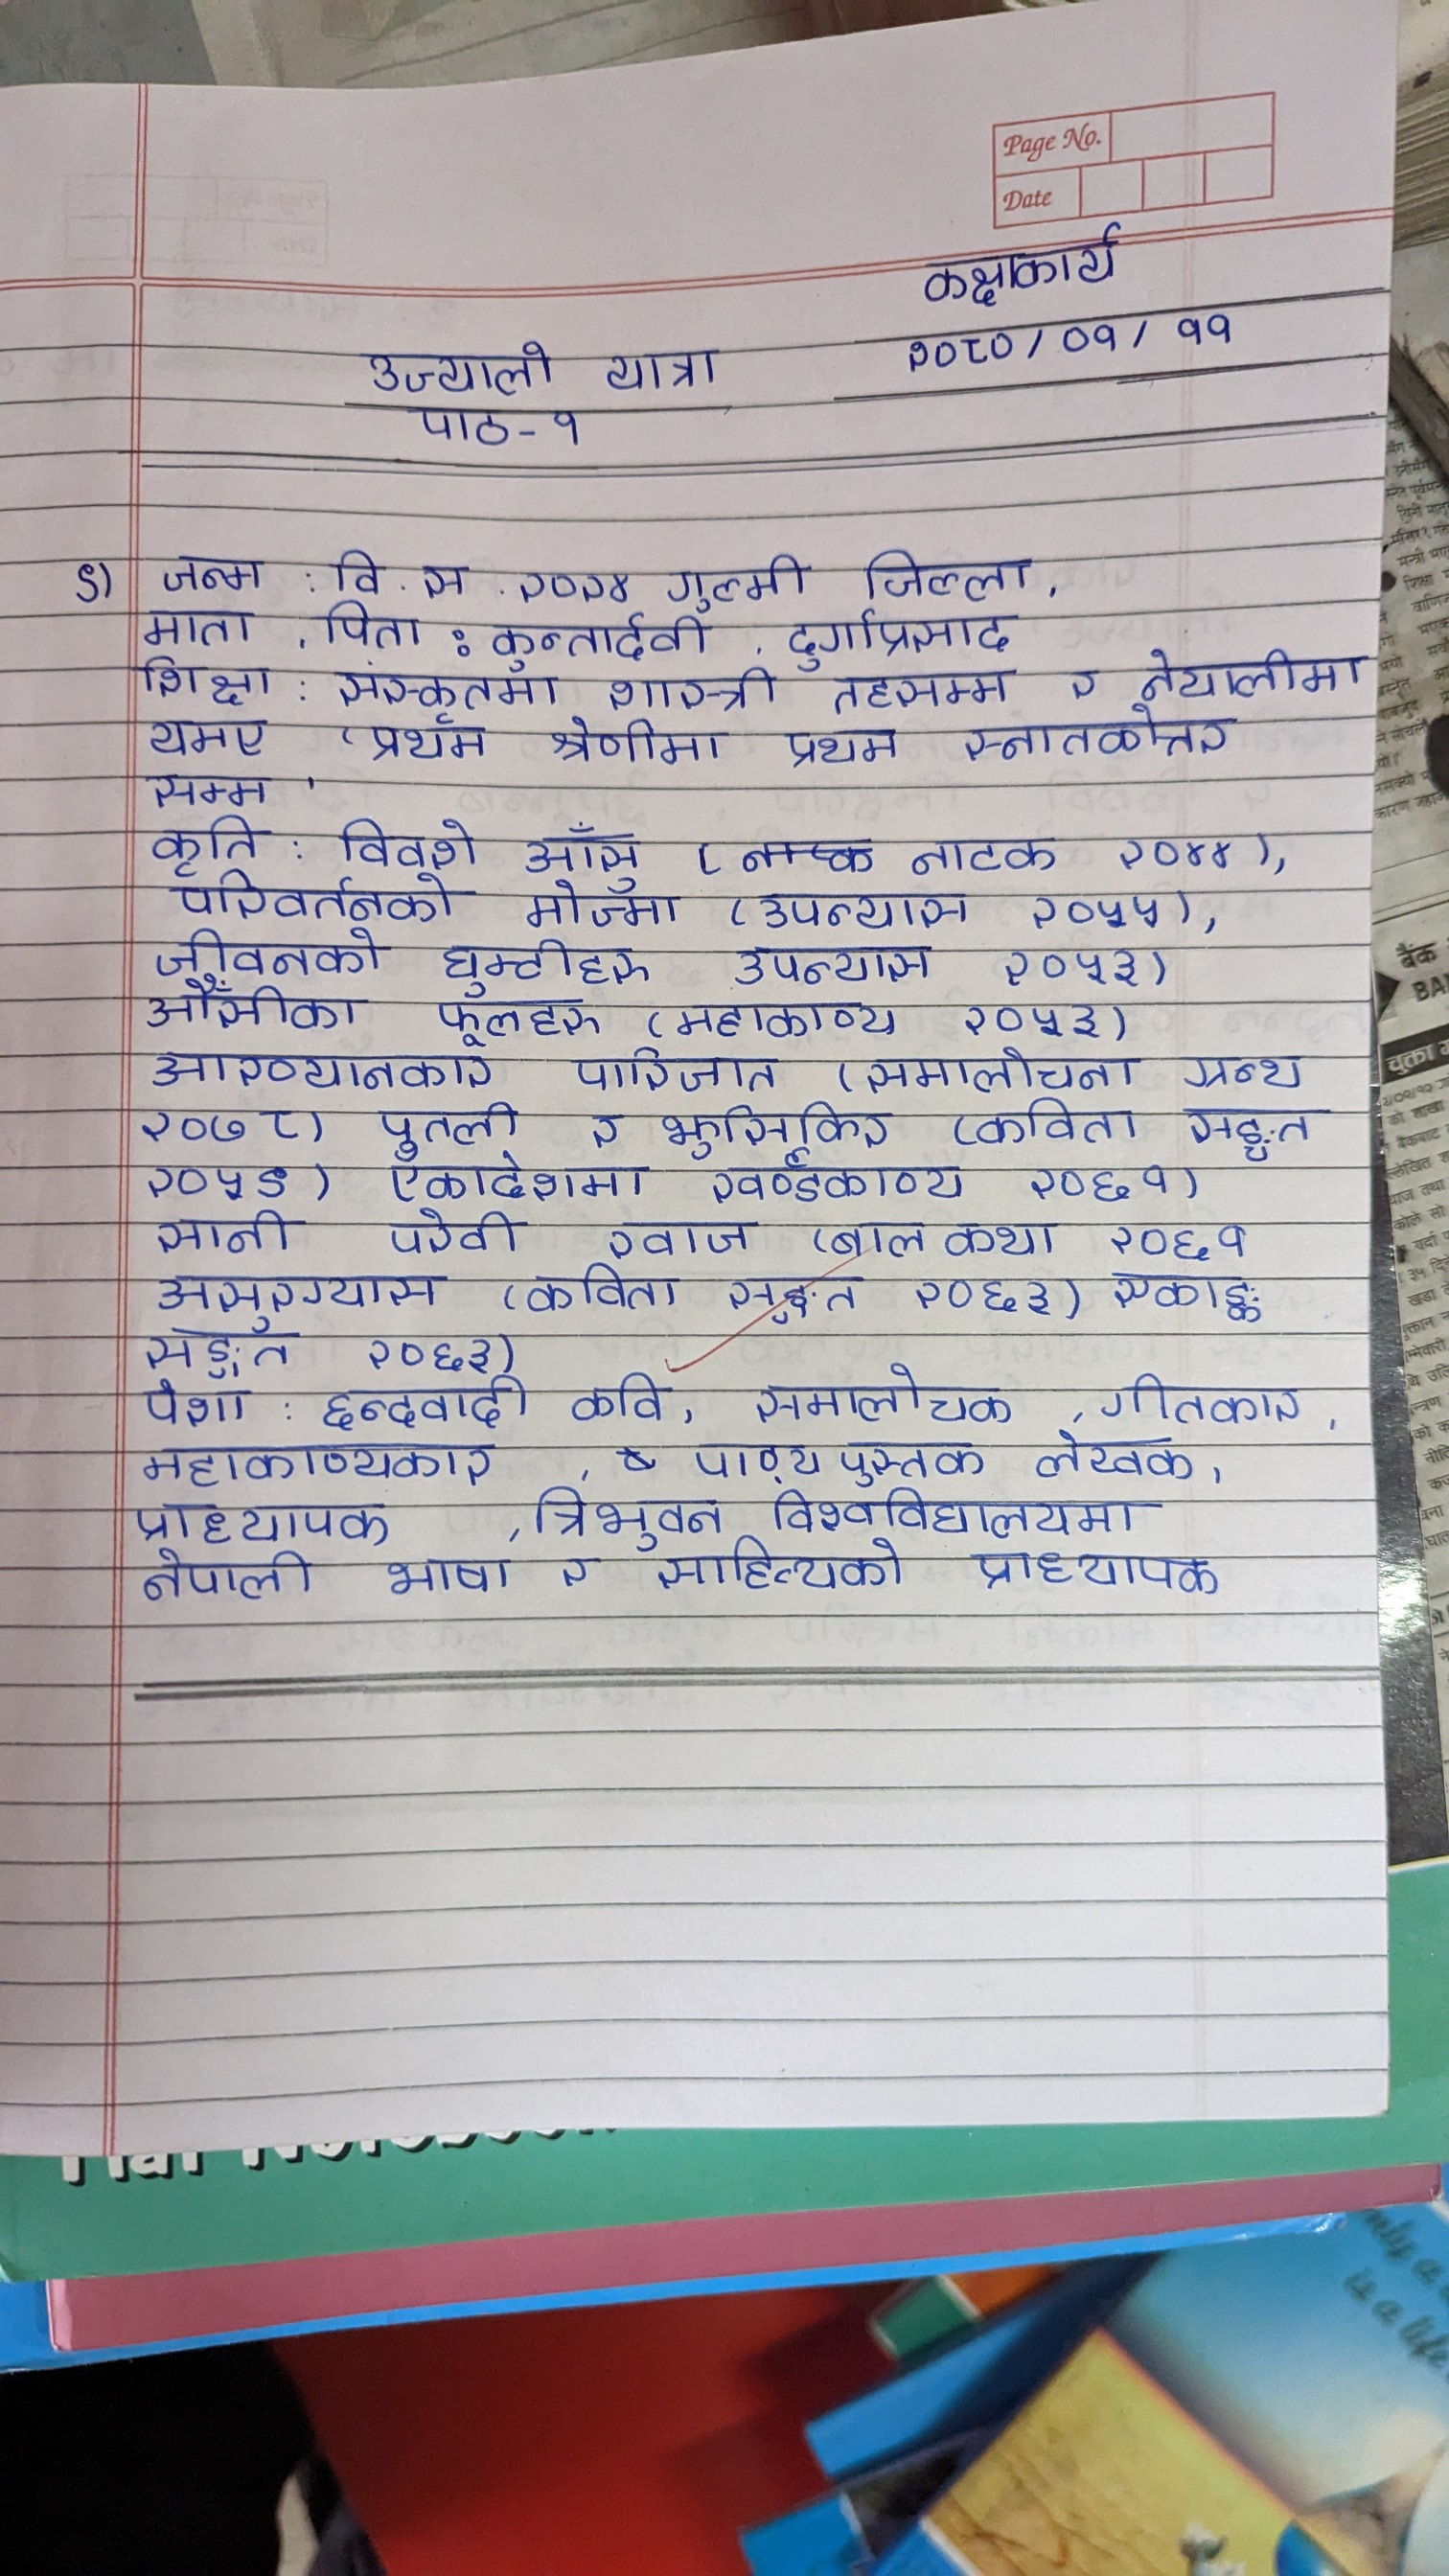text: (766, 1488, 1178, 1537), (741, 1361, 1030, 1430), (955, 1543, 1251, 1608), (902, 221, 1123, 304), (133, 1265, 435, 1325), (134, 1440, 501, 1490), (145, 1049, 495, 1095), (968, 711, 1237, 768), (784, 609, 1019, 671), (853, 1044, 1146, 1093), (163, 876, 464, 924), (656, 1537, 909, 1594), (1132, 637, 1366, 697), (322, 663, 561, 722), (653, 1099, 904, 1154), (122, 1497, 405, 1545), (145, 927, 393, 980), (485, 612, 717, 669), (382, 1157, 653, 1205), (1099, 1366, 1307, 1428), (349, 336, 559, 396), (433, 934, 655, 991), (709, 1155, 971, 1203), (529, 1486, 729, 1548), (318, 1376, 533, 1433), (136, 978, 364, 1031), (667, 993, 909, 1040), (133, 1548, 326, 1606), (724, 938, 945, 987), (1104, 1267, 1274, 1327), (571, 1047, 784, 1095), (428, 993, 612, 1047), (752, 886, 977, 931), (524, 1258, 685, 1318), (851, 548, 1031, 602), (331, 805, 481, 869), (548, 713, 727, 766), (515, 816, 653, 883), (370, 1099, 533, 1155), (832, 663, 1007, 715), (136, 1323, 295, 1378), (720, 1265, 865, 1325), (663, 550, 812, 609), (970, 1095, 1138, 1146), (600, 667, 780, 715), (1180, 1100, 1318, 1162), (594, 1210, 770, 1258), (835, 1435, 998, 1486), (1021, 1152, 1177, 1205), (138, 814, 271, 874), (902, 828, 1063, 878), (1028, 1431, 1194, 1479), (895, 326, 1037, 380), (998, 939, 1146, 991), (149, 1207, 297, 1258), (909, 1274, 1063, 1323), (1099, 1214, 1256, 1261), (522, 885, 685, 931), (1108, 819, 1242, 874), (134, 1104, 311, 1145), (955, 993, 1106, 1040), (140, 1159, 301, 1203), (377, 1207, 520, 1256), (133, 656, 272, 706), (379, 1553, 518, 1603), (780, 720, 906, 775), (686, 1437, 824, 1486), (1177, 1049, 1311, 1099), (357, 1329, 508, 1371), (566, 1369, 679, 1424), (133, 766, 272, 810), (136, 1378, 257, 1430), (410, 396, 518, 453), (152, 543, 265, 594), (145, 715, 274, 759), (602, 349, 720, 396), (136, 605, 264, 649), (311, 603, 425, 653), (515, 563, 633, 609), (941, 1212, 1060, 1258), (366, 725, 499, 766), (1024, 890, 1162, 929), (1168, 292, 1249, 350), (828, 1214, 931, 1258), (1054, 311, 1132, 363), (324, 545, 387, 602), (554, 1553, 617, 1601), (64, 550, 110, 609), (418, 554, 469, 605), (580, 1102, 628, 1154), (552, 407, 591, 464), (1063, 660, 1104, 701)
